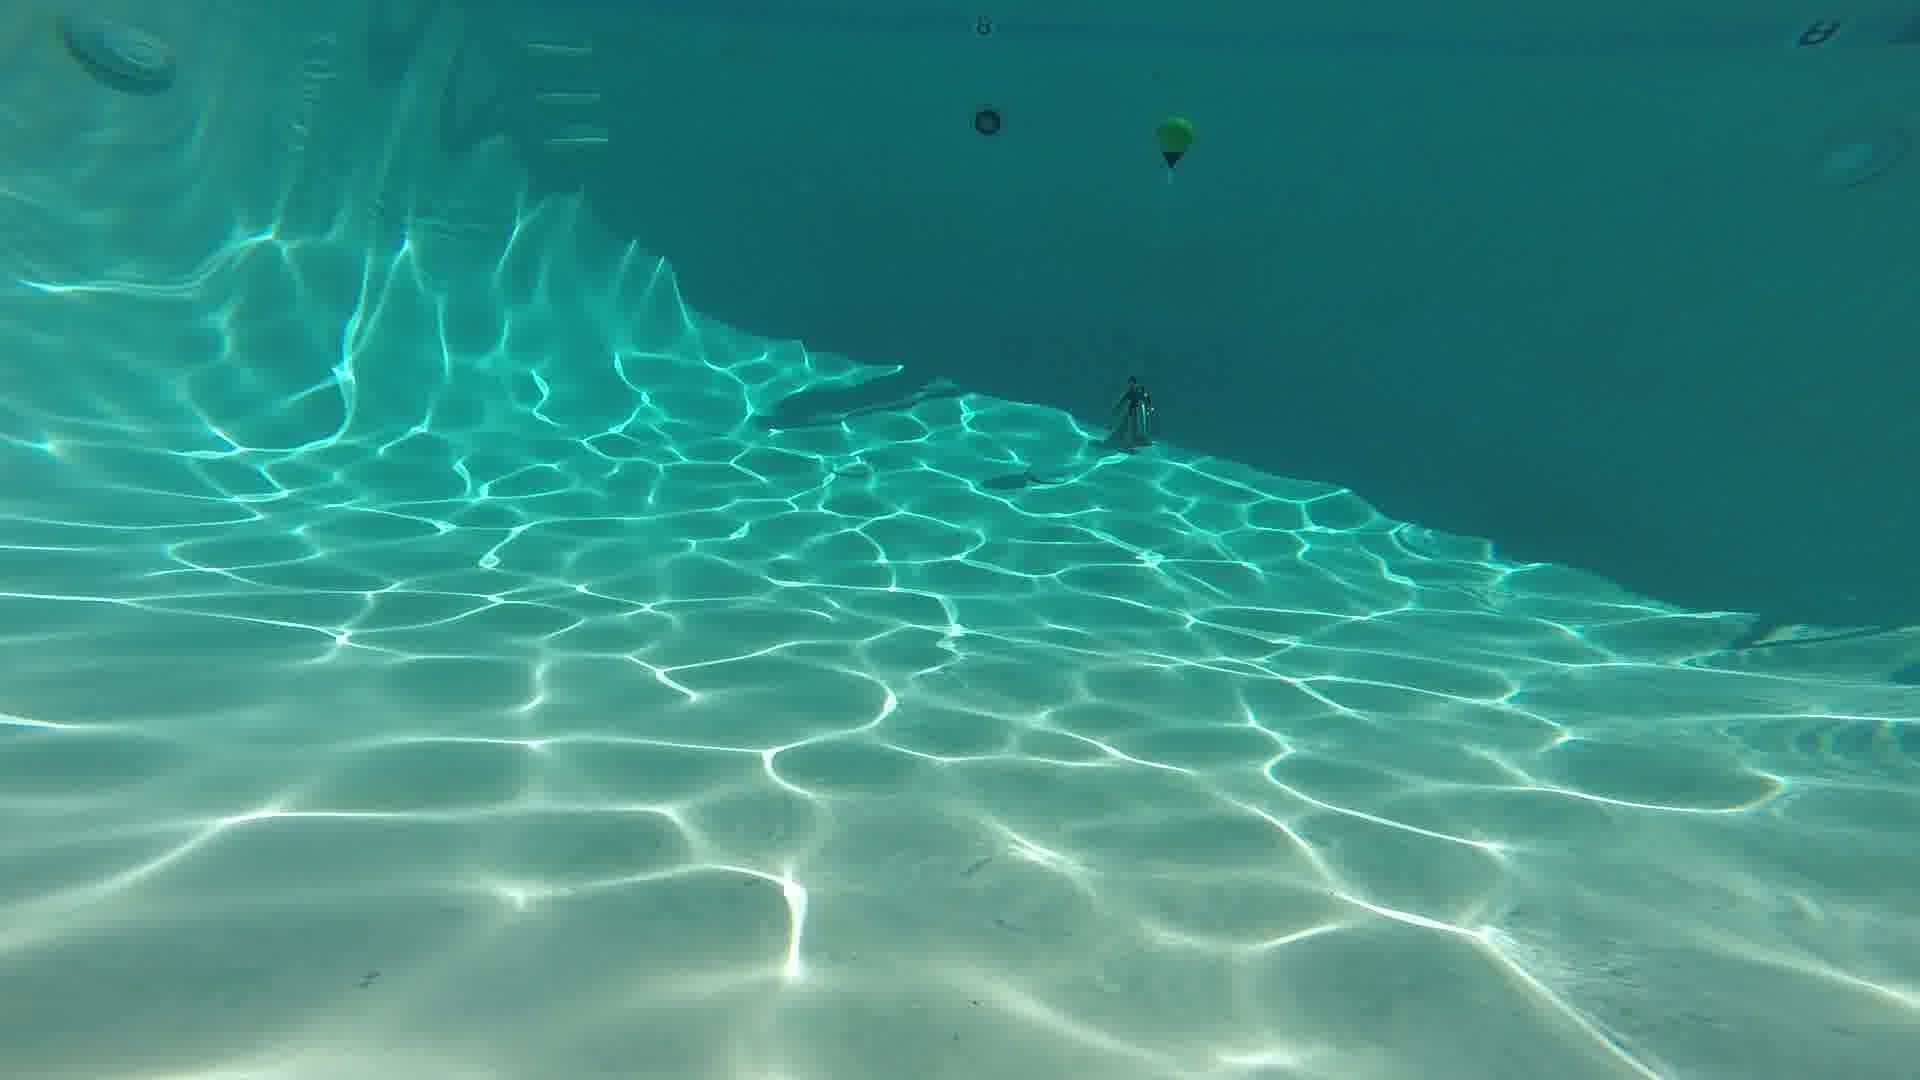yellow_buoy: (1156, 117, 1189, 167)
